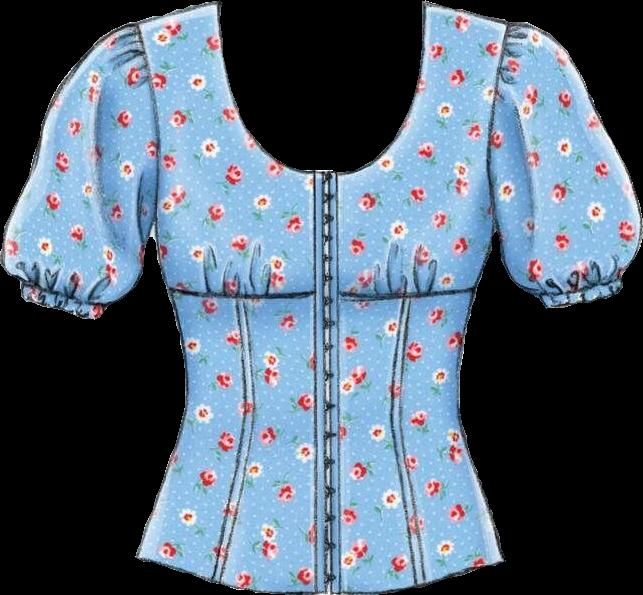Bodice: (134, 0, 512, 594)
Neckline: (216, 1, 430, 175), (162, 282, 480, 303)
Sleeve: (0, 22, 155, 319), (488, 22, 641, 308)
Sleeveline: (487, 19, 516, 228), (132, 21, 160, 232), (21, 278, 107, 312), (535, 273, 623, 299)
Waistline: (133, 551, 510, 594)
